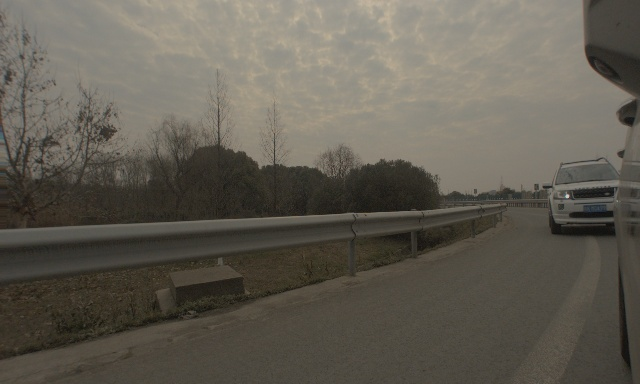car: (542, 157, 625, 234)
